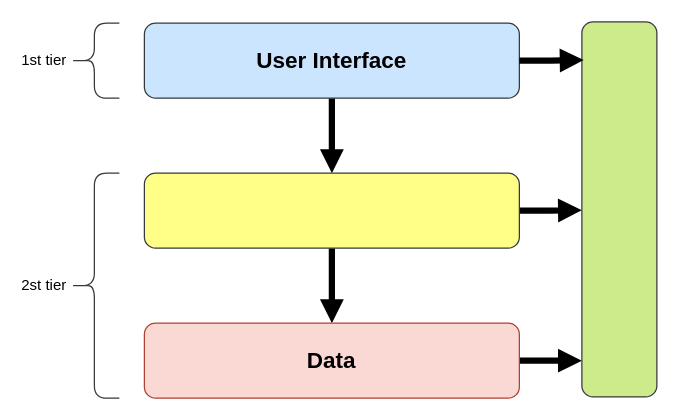
The diagram is 679 pixels wide and 420 high, and some of its shapes have lost their labels. Each missing label, with the centre of its shape:
"Business Logic" belongs at point (331, 210).
"Infrastructure" belongs at point (619, 209).
